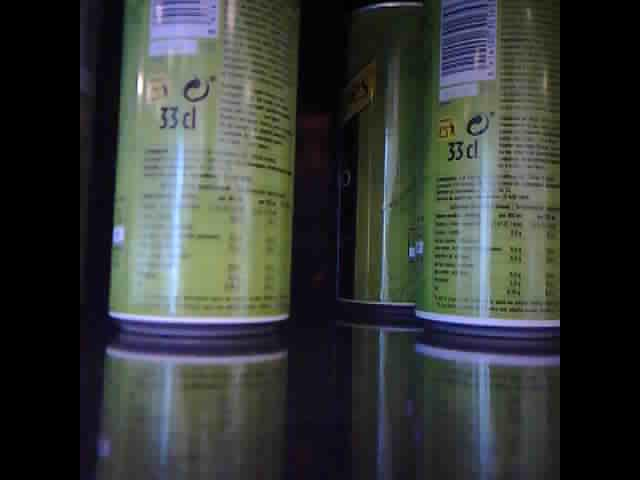schweppes: (108, 3, 306, 333), (415, 1, 559, 335), (336, 1, 424, 317)
